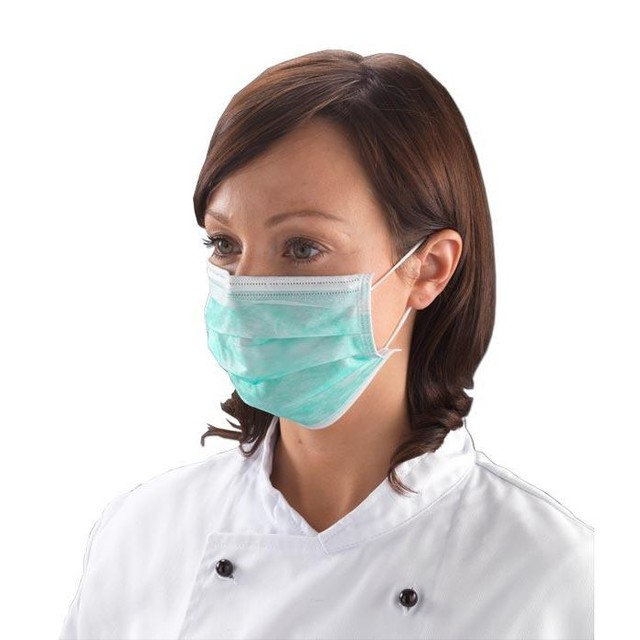mask: (206, 269, 385, 427)
